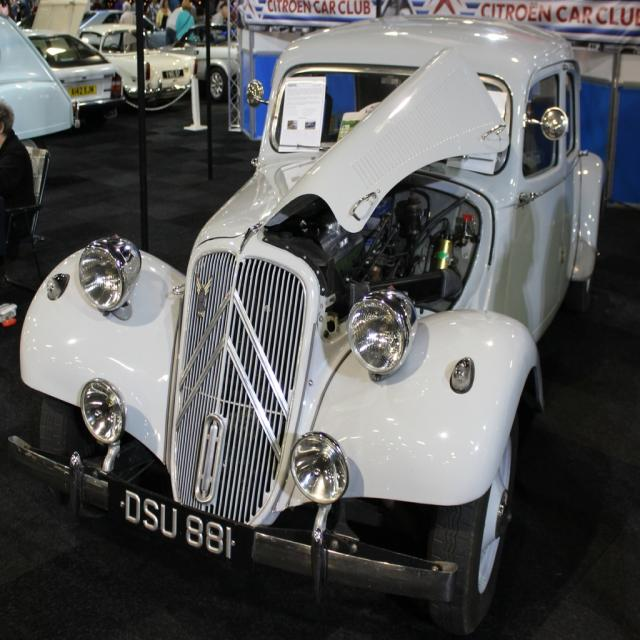car: (10, 14, 601, 635)
